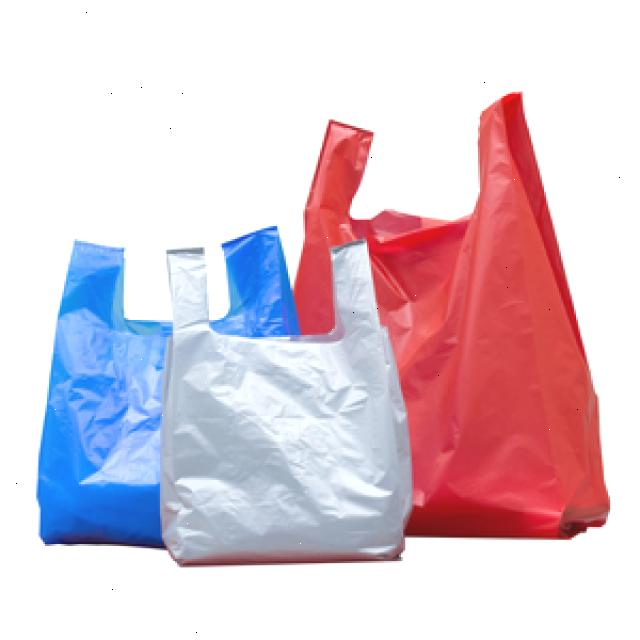Plastic: (292, 95, 607, 565), (39, 224, 307, 552), (156, 239, 404, 552)
